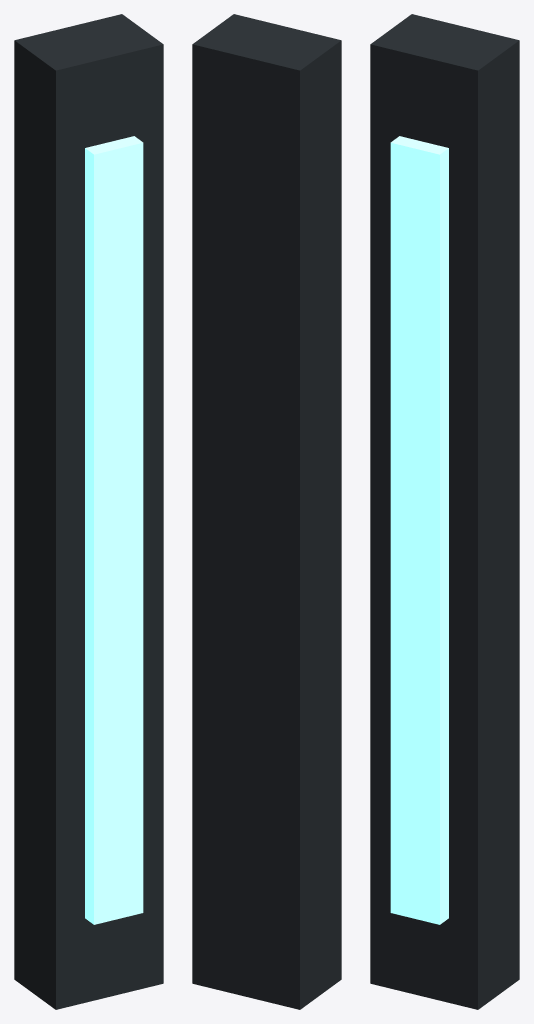
File: hp_light_wall_medical_strip_cyan_1m.glb
3 renders of one model, left to right at view 1: azimuth 30°, elevation 25°; view 2: azimuth 150°, elevation 25°; view 3: azimuth 330°, elevation 25°, orthographic.
Parts seen in each view (by area): view 1: wall_strip_dark_mount, wall_strip_cyan_lens; view 2: wall_strip_dark_mount; view 3: wall_strip_dark_mount, wall_strip_cyan_lens.
Boxes of the visible parts, left/top/right/bottom form: wall_strip_dark_mount: left=14, top=14, right=163, bottom=1009; wall_strip_cyan_lens: left=85, top=136, right=143, bottom=924; wall_strip_dark_mount: left=192, top=14, right=341, bottom=1009; wall_strip_dark_mount: left=370, top=14, right=519, bottom=1009; wall_strip_cyan_lens: left=390, top=136, right=448, bottom=924.
Bounding box in the file's own units: 0.12 × 1 × 0.0975.
